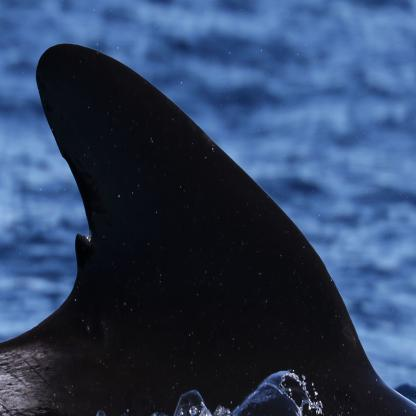dolphin-whale: (0, 31, 416, 416)
